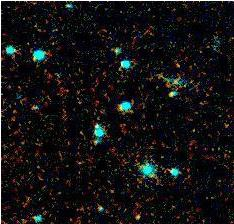star: (124, 203, 154, 224)
